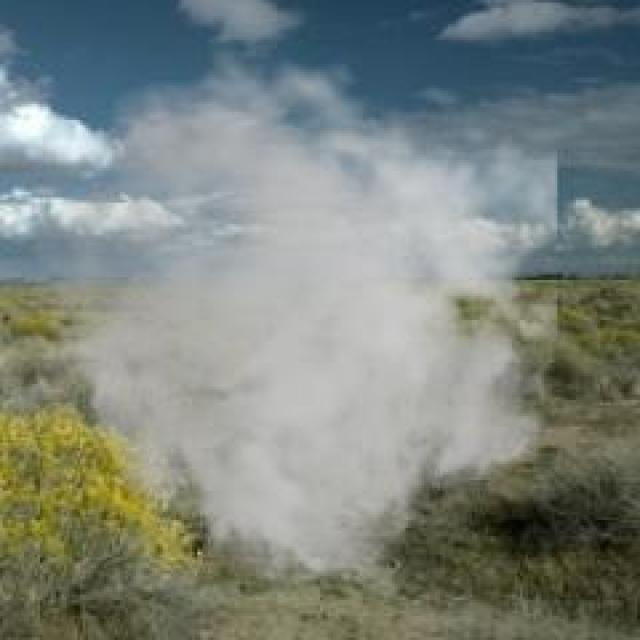smoke: (31, 43, 557, 601)
